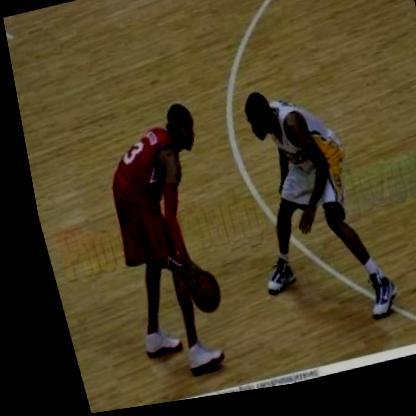basketball: (169, 267, 219, 324)
